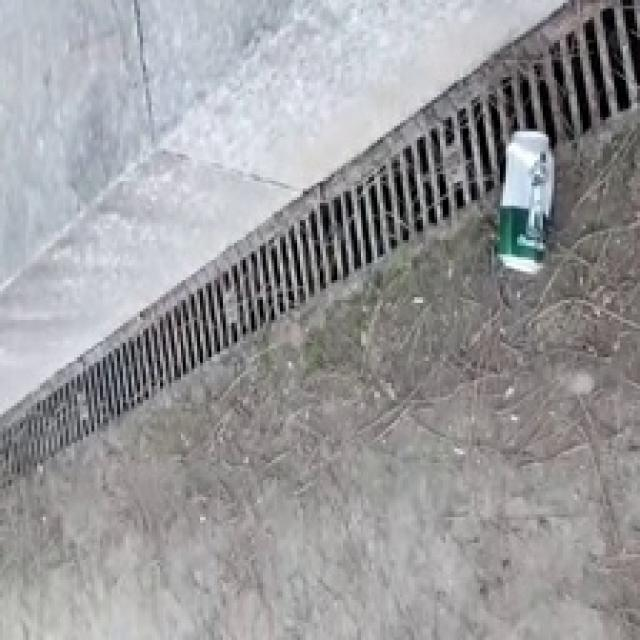recyclable: (492, 130, 556, 274)
